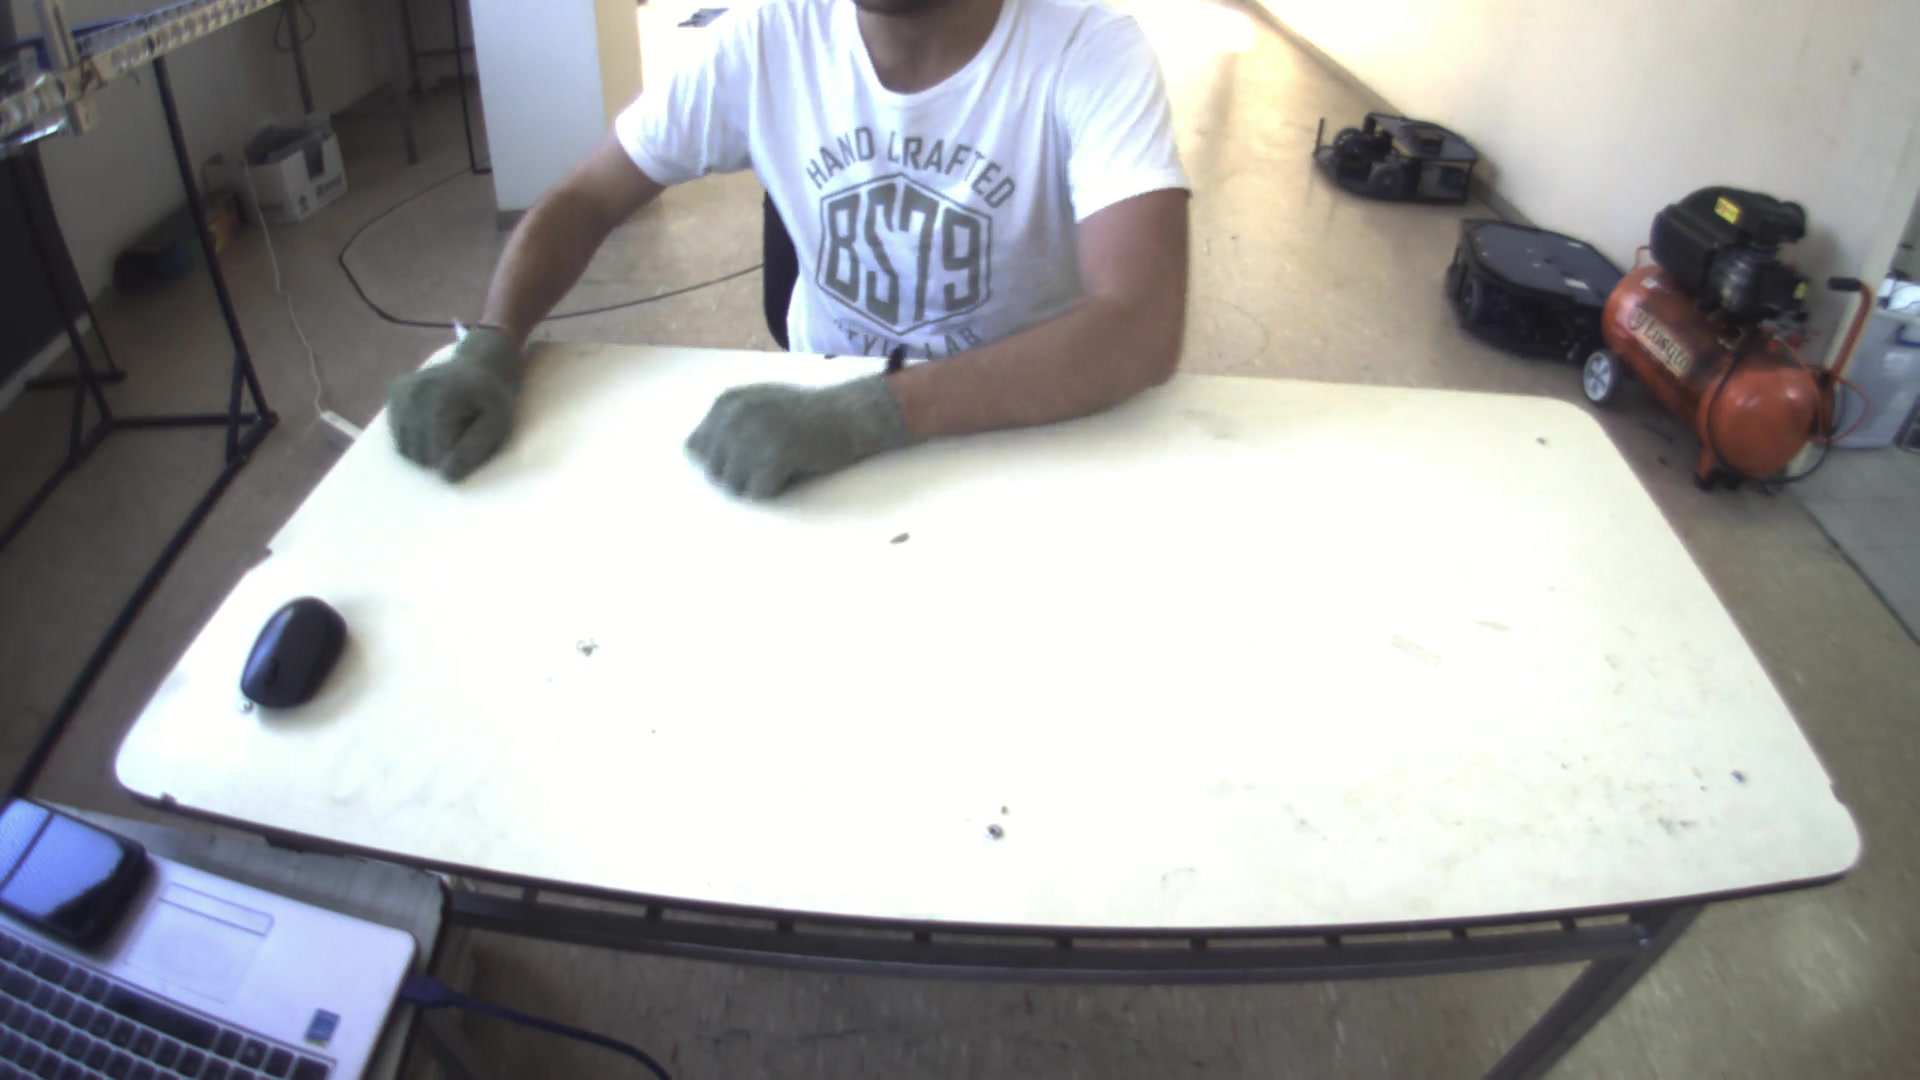hand: (671, 353, 913, 501), (377, 309, 527, 487)
